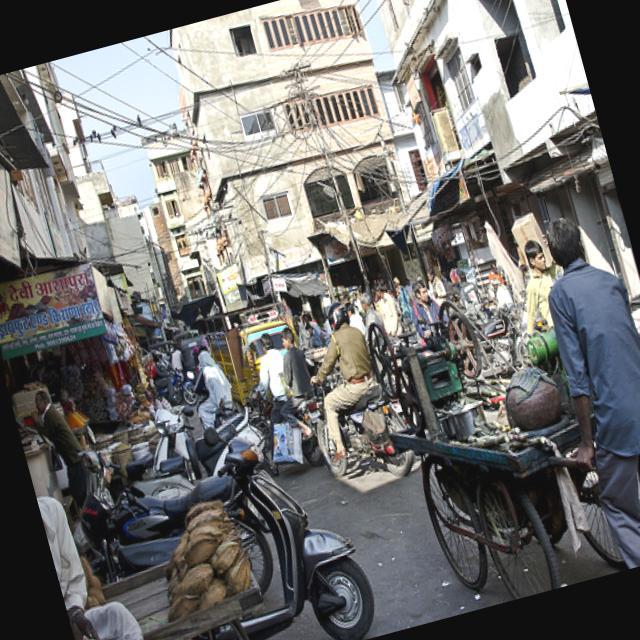Vehicle: (196, 406, 385, 640), (54, 431, 213, 559), (135, 374, 278, 512), (302, 365, 418, 495), (201, 302, 310, 410), (252, 390, 337, 477), (150, 357, 200, 412), (208, 396, 238, 422)
